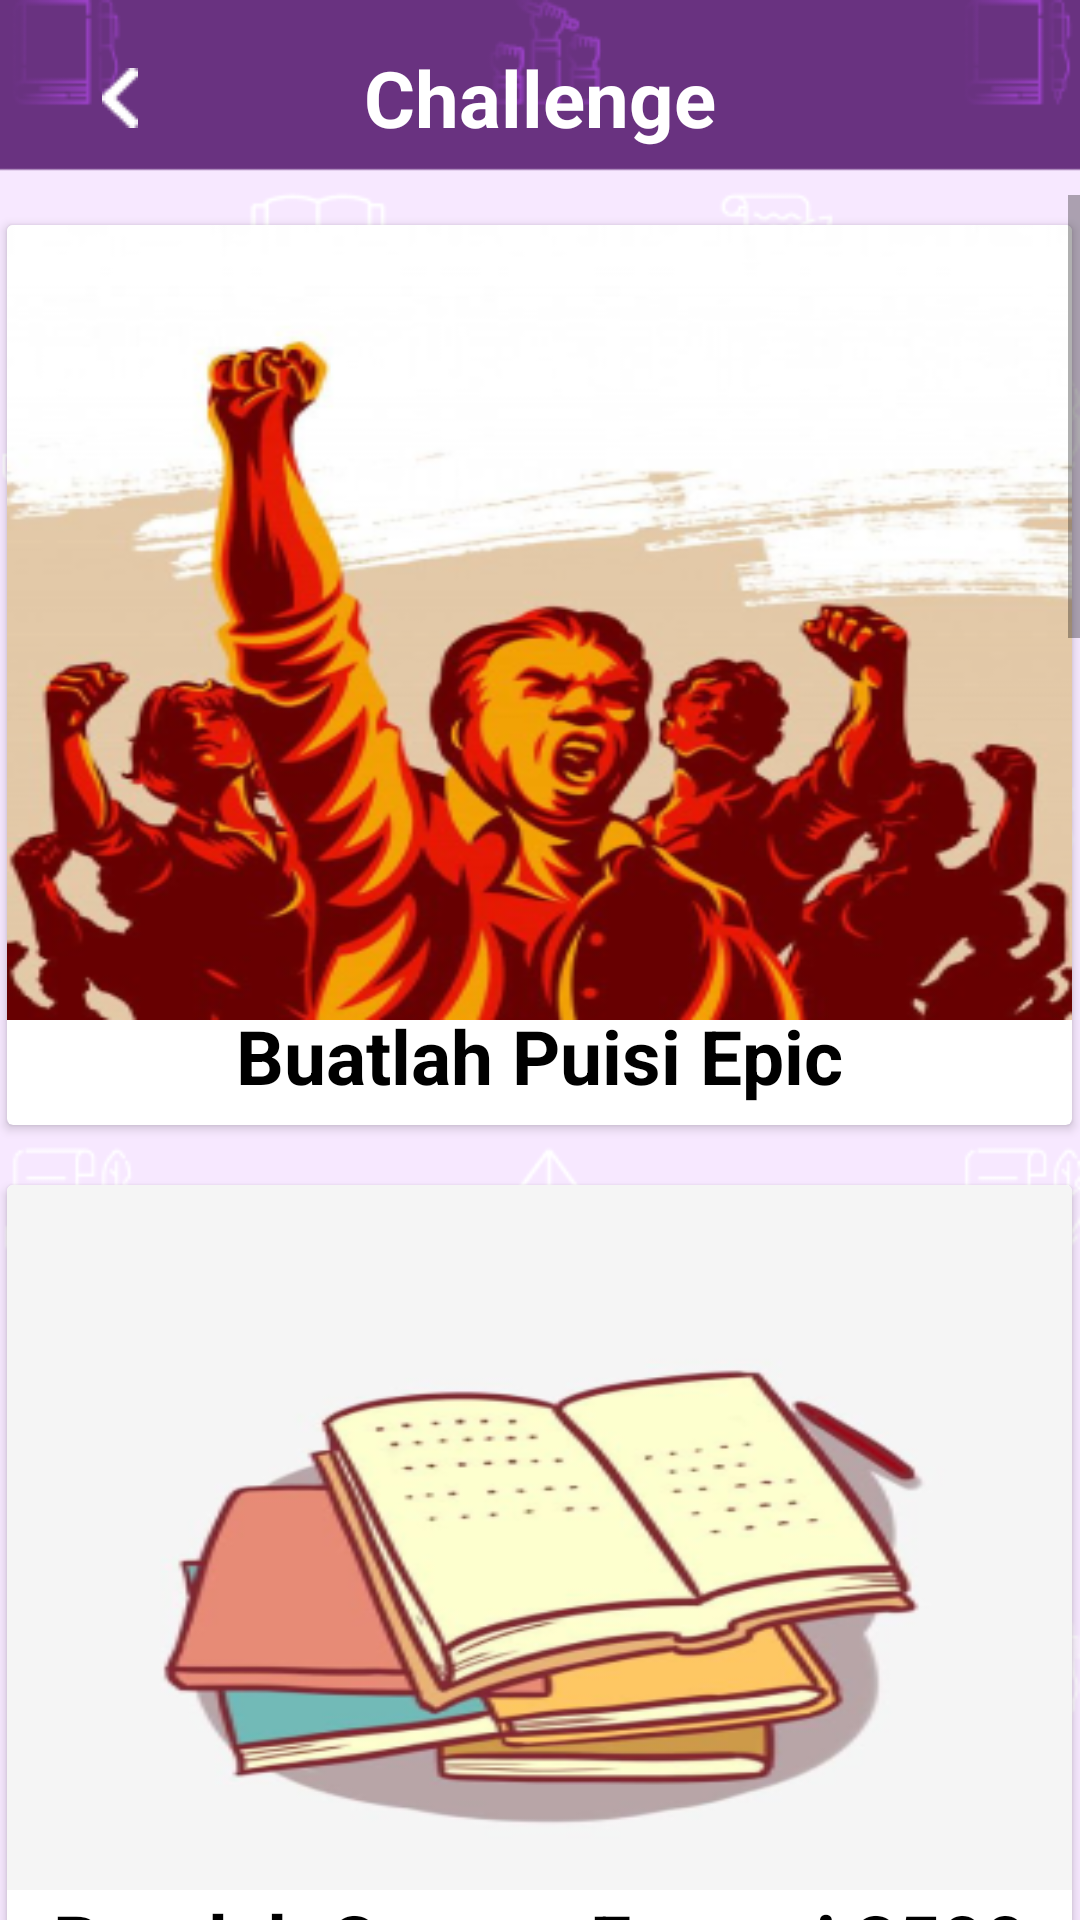

Icons on this 1080x1920 Android screen, each with its box as (x1, y1, x2, y2):
btnback: (90, 60, 138, 128)
